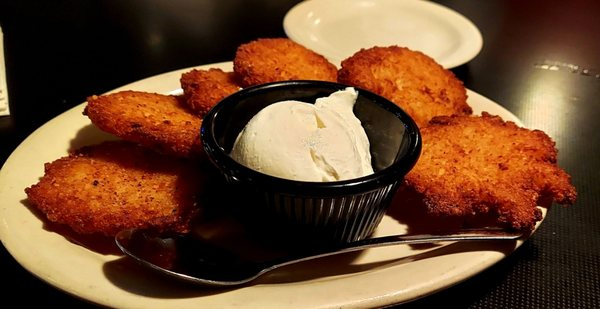sushi: (200, 82, 424, 247)
